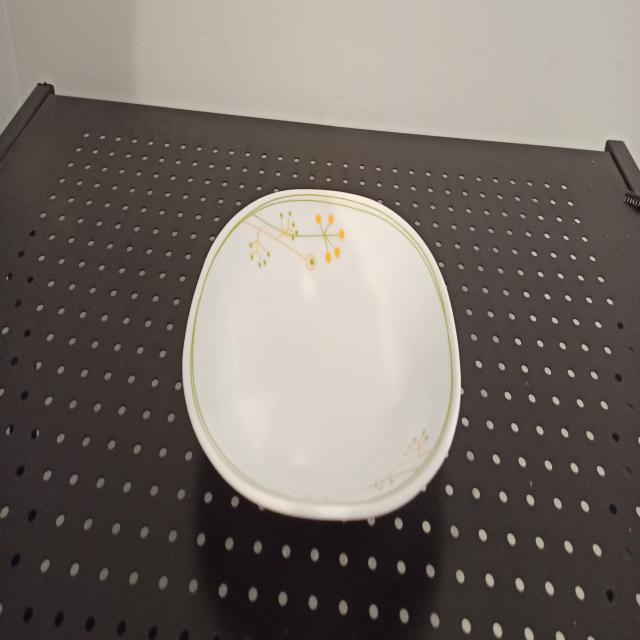non-organic waste: (167, 169, 481, 540)
